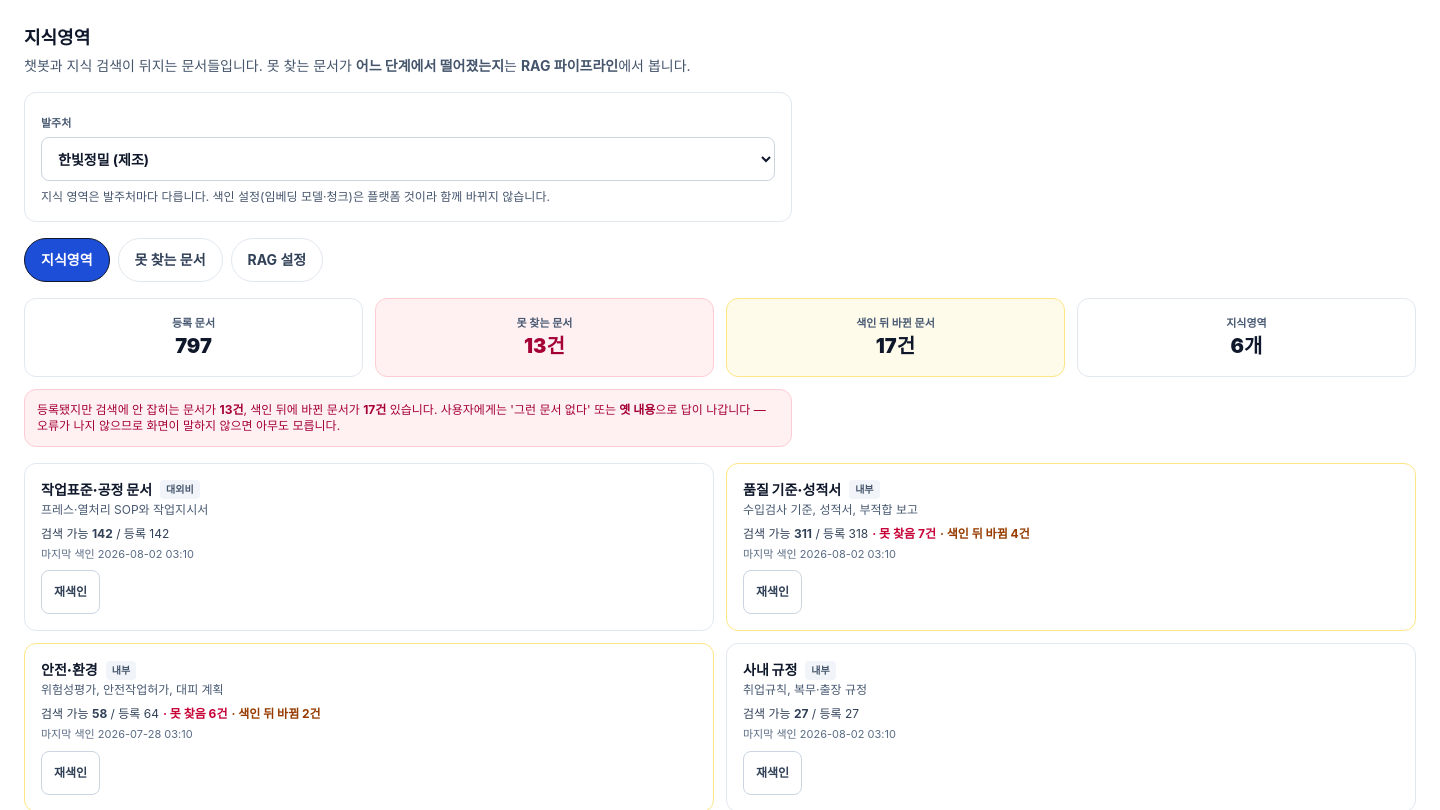
Test: 못 찾는 문서 › 제외와 실패를 가른다고 말한다
This screenshot has width=1440, height=810.
Click the tab "못 찾는 문서" at (170, 260), box [118,238,222,282]
(page scrolled)
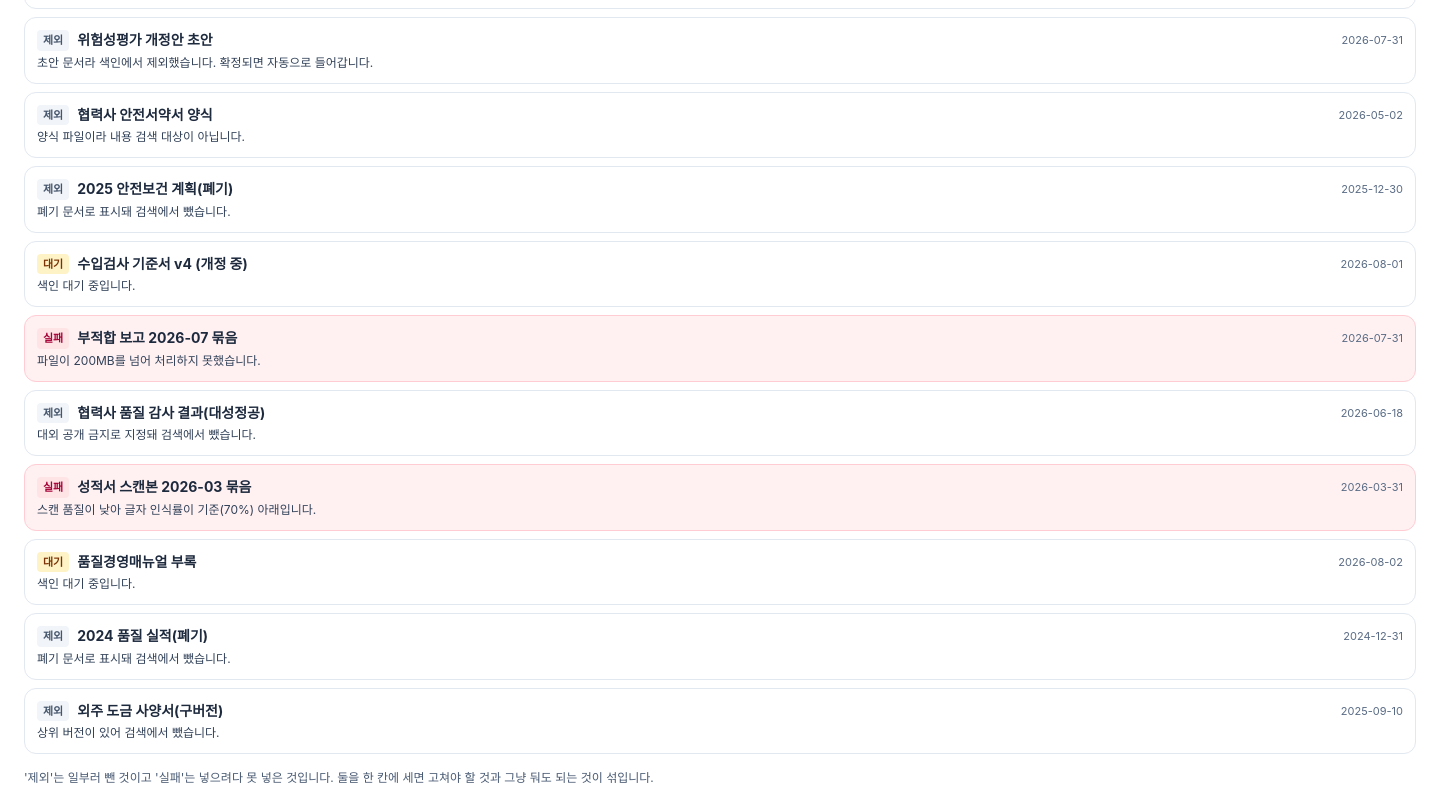
Expected: the text "'제외'는 일부러 뺀 것이고 '실패'는 넣으려다 못 넣은 것입니다" is shown, [24,770,654,785]
